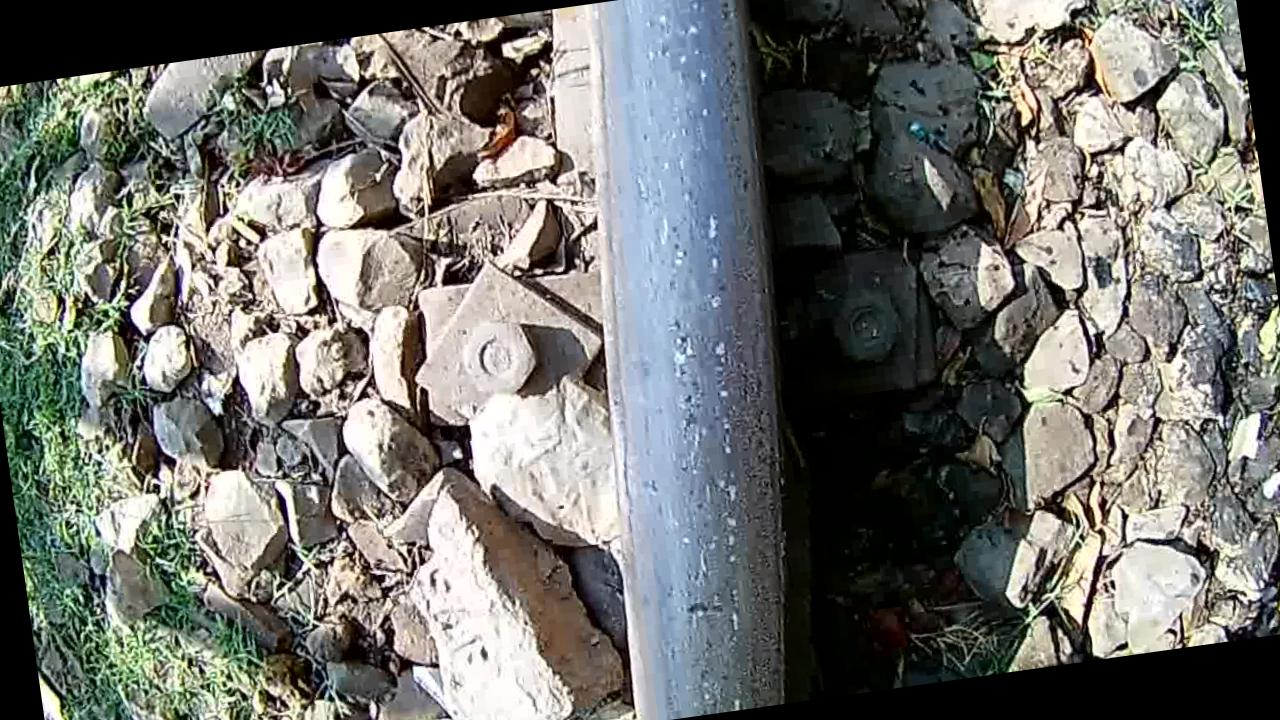clip_missing: (536, 0, 857, 720)
